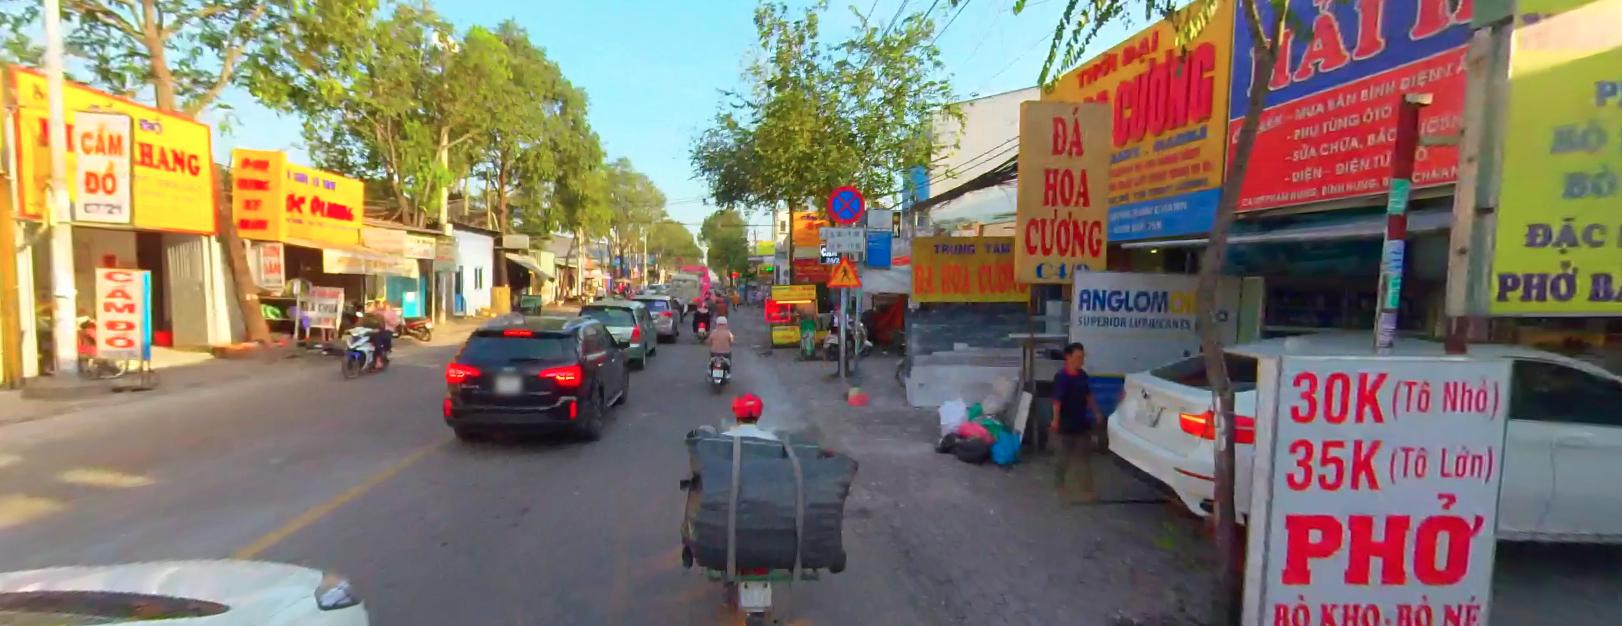Cam dung va do: (827, 184, 864, 222)
Nguy hiem: (823, 255, 864, 286)
